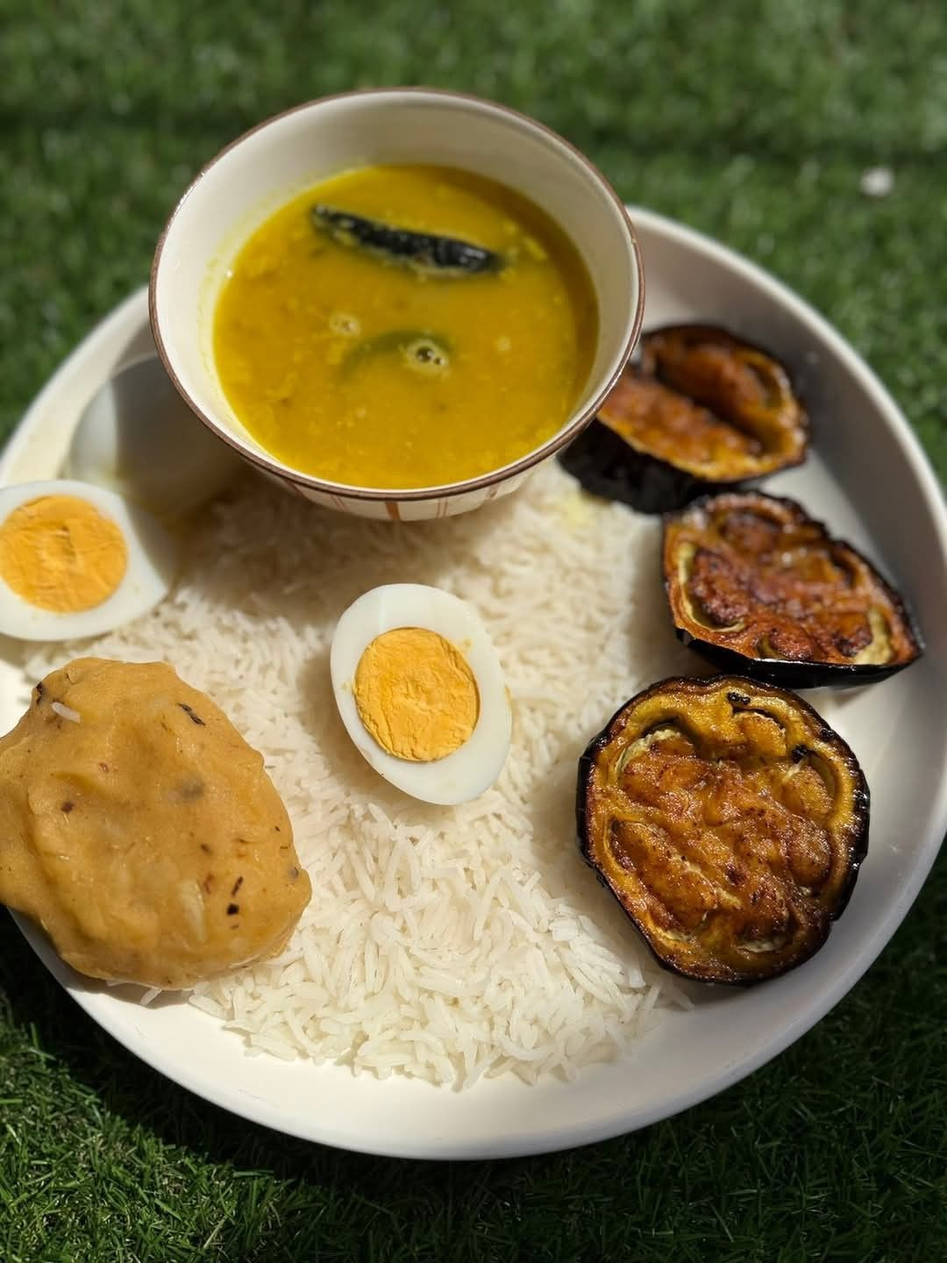bhat: (45, 481, 676, 1070)
dal: (214, 163, 582, 490)
sabji: (601, 306, 912, 971), (5, 672, 266, 971)
